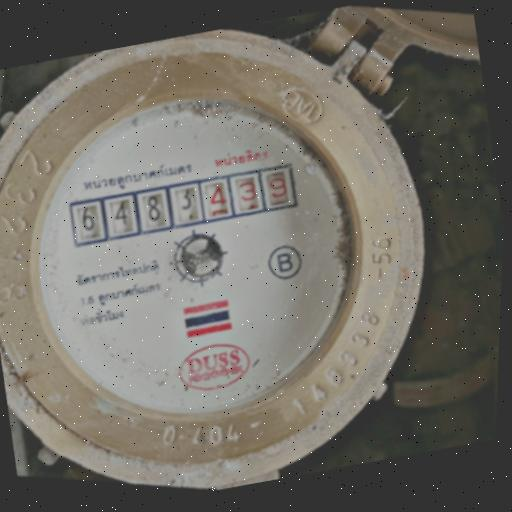3: (233, 175, 259, 212), (175, 187, 199, 222)
4: (203, 181, 230, 218), (108, 199, 135, 234)
6: (76, 205, 101, 239)
8: (142, 193, 167, 228)
9: (264, 171, 290, 204)
border_water_meter_number: (66, 161, 300, 247)
